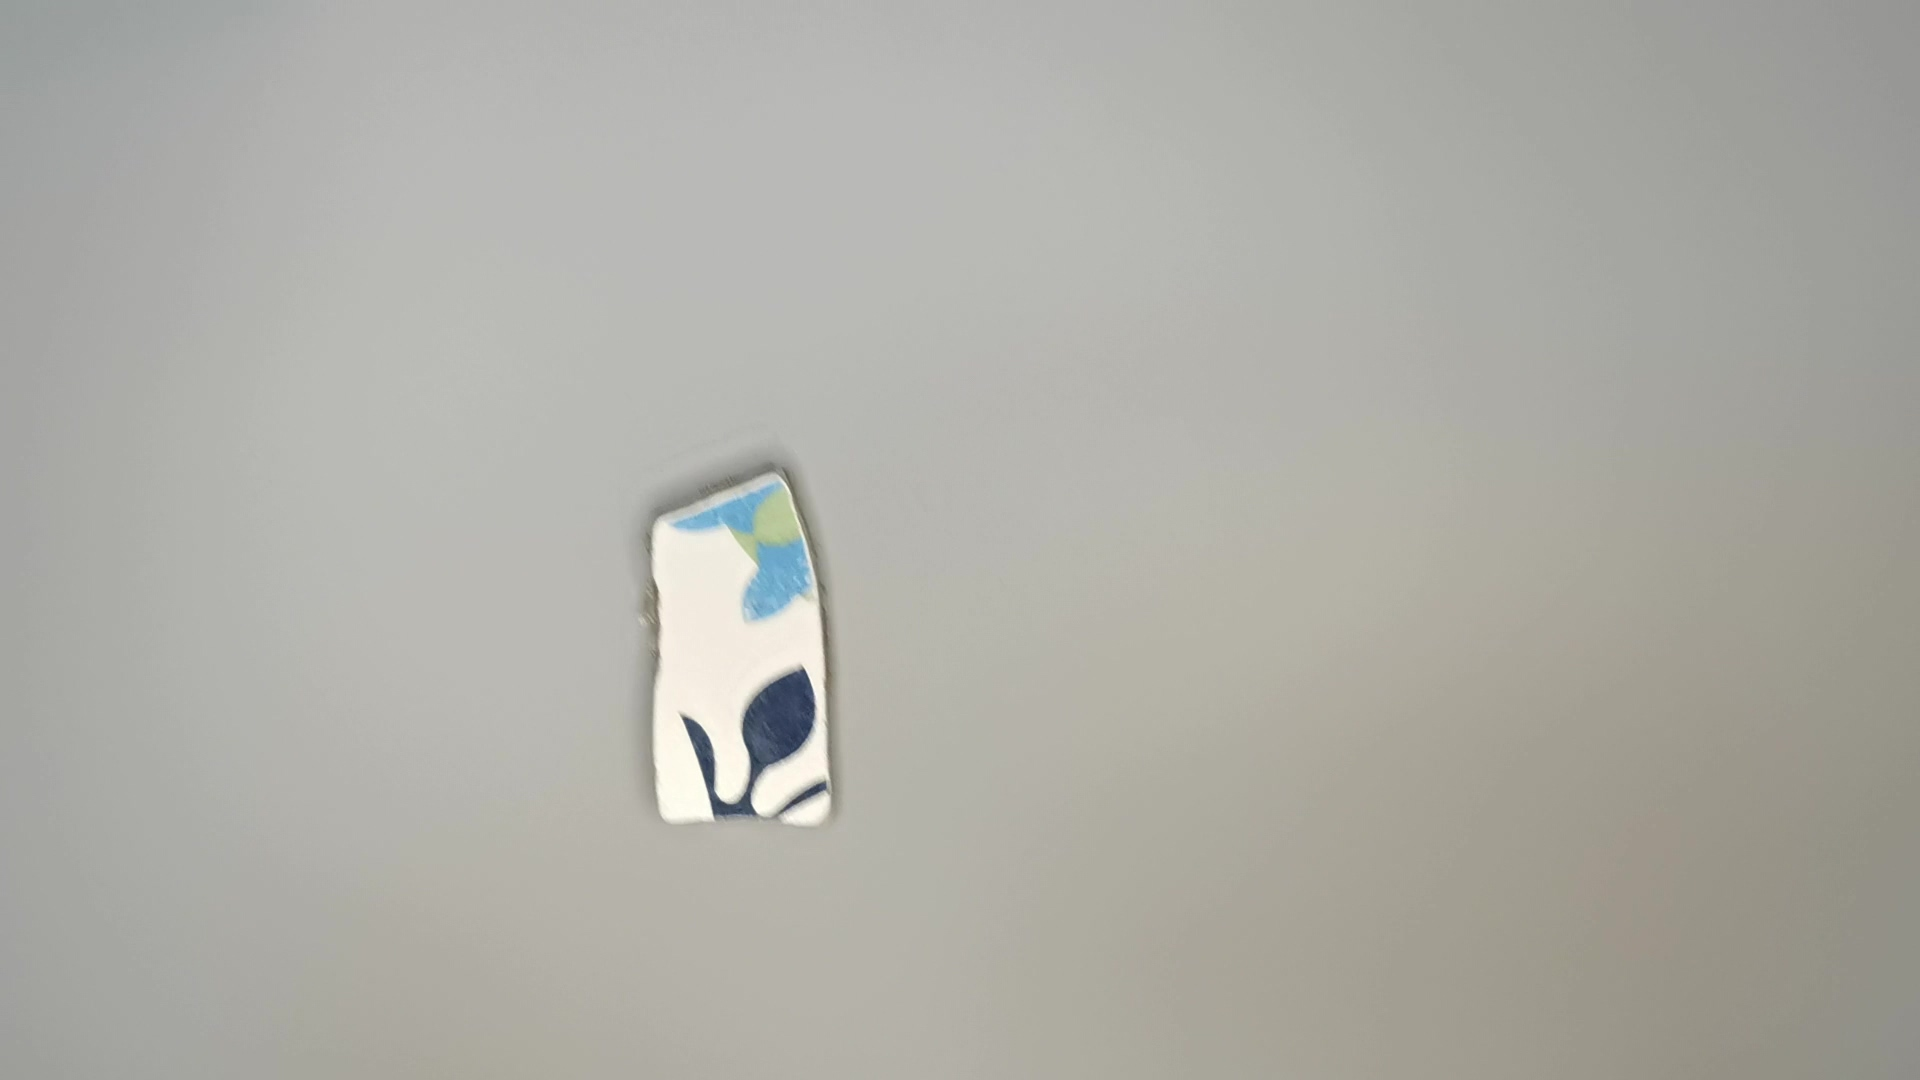ceramic: (640, 464, 845, 831)
